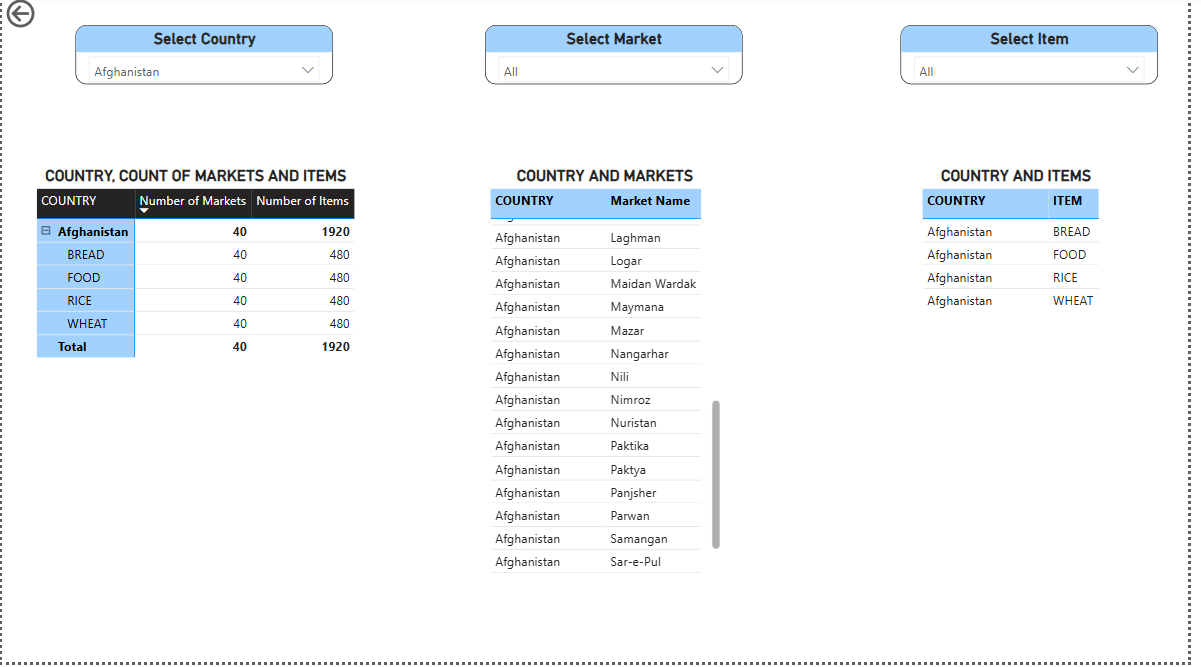

What the dashboard file says about the page in this screenshot:
{"tool":"powerbi","page":{"name":"Food Market info","canvas":[1280,720],"ordinal":0},"visuals":[{"type":"slicer","title":"Select Country","fields":{"Values":["s3_snowflake_realtime.COUNTRY"]},"box":[79.4,32.1,277.8,64.3],"z":0},{"type":"slicer","title":"Select Market","fields":{"Values":["s3_snowflake_realtime.MKT_NAME"]},"box":[521.6,32.1,277.8,64.3],"z":1},{"type":"slicer","title":"Select Item","fields":{"Values":["s3_snowflake_realtime.ITEM"]},"box":[969.5,32.1,277.8,64.3],"z":2},{"type":"pivotTable","title":"COUNTRY, COUNT OF MARKETS AND ITEMS","fields":{"Rows":["s3_snowflake_realtime.COUNTRY","s3_snowflake_realtime.ITEM"],"Values":["Count(s3_snowflake_realtime.MKT_NAME)","CountNonNull(s3_snowflake_realtime.ITEM)"]},"box":[32.1,185.2,353.4,374.2],"z":3},{"type":"tableEx","title":"COUNTRY AND ITEMS","fields":{"Values":["s3_snowflake_realtime.COUNTRY","s3_snowflake_realtime.ITEM"]},"box":[988.4,185.2,213.5,204.1],"z":4},{"type":"tableEx","title":"COUNTRY AND MARKETS","fields":{"Values":["s3_snowflake_realtime.COUNTRY","s3_snowflake_realtime.MKT_NAME"]},"box":[521.6,185.2,258.9,447.9],"z":5},{"type":"actionButton","box":[0,0,100,40],"z":6}]}

Visuals, with their boxes in screenshot pixels (x1, y1, x2, y2), scaled from the page's 1280x720 canvas onto the 1201x667 screenshot:
"Select Country" slicer: l=74, t=30, r=335, b=89
"Select Market" slicer: l=489, t=30, r=750, b=89
"Select Item" slicer: l=910, t=30, r=1170, b=89
"COUNTRY, COUNT OF MARKETS AND ITEMS" pivotTable: l=30, t=172, r=362, b=518
"COUNTRY AND ITEMS" tableEx: l=927, t=172, r=1128, b=361
"COUNTRY AND MARKETS" tableEx: l=489, t=172, r=732, b=586
actionButton: l=0, t=0, r=94, b=37
